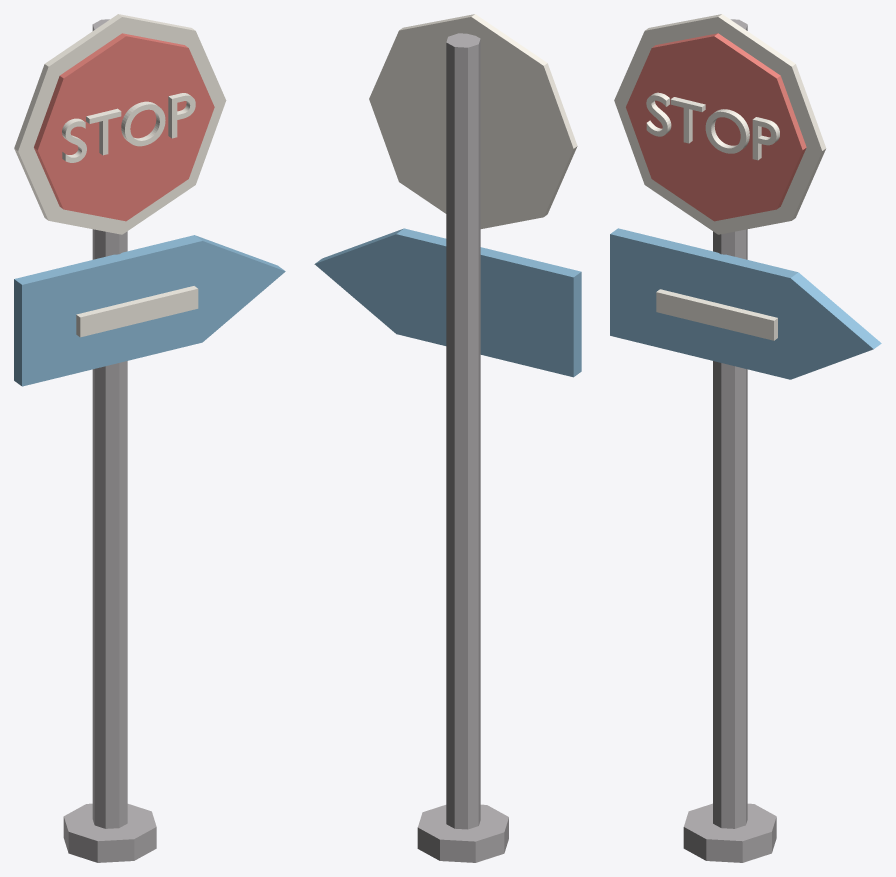
The model's file is Prop_Sign_A.fbx.
3 renders of one model, left to right at view 1: azimuth 30°, elevation 25°; view 2: azimuth 150°, elevation 25°; view 3: azimuth 330°, elevation 25°, orthographic.
Parts seen in each view (by area): view 1: Prop_Sign_A; view 2: Prop_Sign_A; view 3: Prop_Sign_A.
Boxes of the visible parts, x1=… form: Prop_Sign_A: x1=14, y1=14, x2=285, y2=862; Prop_Sign_A: x1=314, y1=14, x2=581, y2=862; Prop_Sign_A: x1=610, y1=14, x2=881, y2=862.
Bounding box in the file's own units: 0.76 × 2.3 × 0.24.
